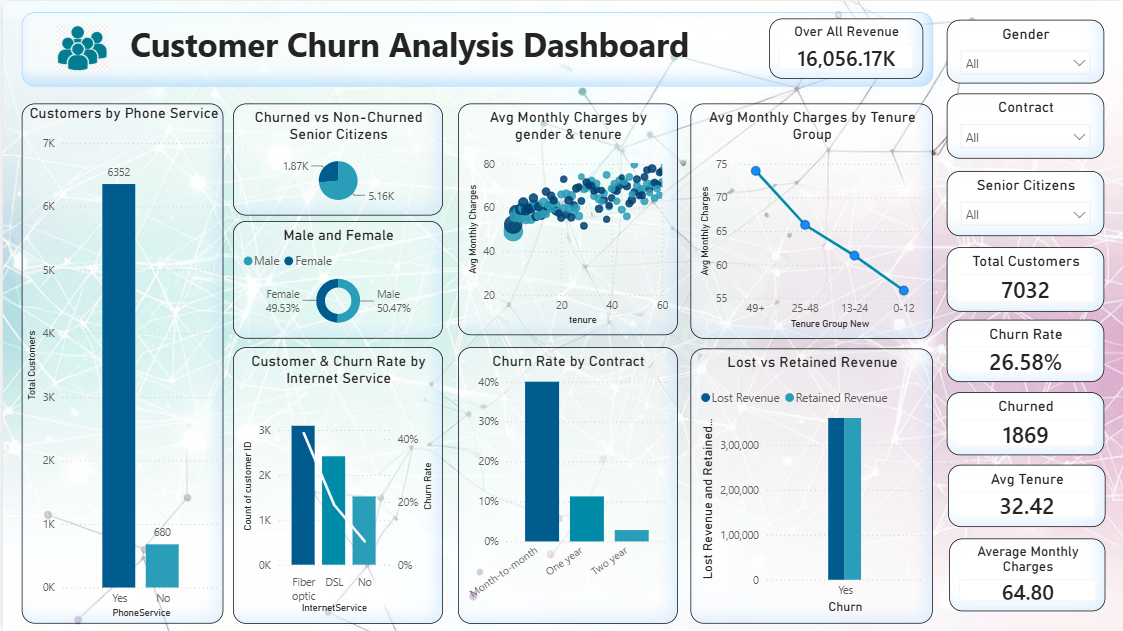

The page's visual inventory and layout, read from the dashboard file:
{"tool":"powerbi","page":{"name":"📊 Executive Dashboard","canvas":[1280,720],"ordinal":0},"visuals":[{"type":"textbox","box":[22,12.3,1041.5,85.1],"z":0},{"type":"cardVisual","title":"Total Customers","fields":{"Data":["Telco-Customer-Churn.Total Customers"]},"box":[1078.6,281.3,179.8,73.6],"z":1000},{"type":"cardVisual","title":"Churned","fields":{"Data":["Telco-Customer-Churn.Churned Customers"]},"box":[1078.6,447.3,179.8,72.4],"z":2000},{"type":"cardVisual","title":"Avg Tenure","fields":{"Data":["Telco-Customer-Churn.Avg Tenure"]},"box":[1079.9,529.7,179.8,71.2],"z":3000},{"type":"cardVisual","title":"Churn Rate","fields":{"Data":["Telco-Customer-Churn.Churn Rate"]},"box":[1078.6,363.6,179.8,71.4],"z":4000},{"type":"cardVisual","title":"Average Monthly Charges","fields":{"Data":["Telco-Customer-Churn.Avg Monthly Charges"]},"box":[1081.3,614.8,178.6,82.9],"z":5000},{"type":"slicer","title":"Senior Citizens","fields":{"Values":["Telco-Customer-Churn.SeniorCitizen"]},"box":[1078.6,194.9,179.8,74.8],"z":6000},{"type":"slicer","title":"Gender","fields":{"Values":["Telco-Customer-Churn.gender"]},"box":[1078.6,22,179.8,72.7],"z":7000},{"type":"slicer","title":"Contract","fields":{"Values":["Telco-Customer-Churn.Contract"]},"box":[1078.6,105.7,179.8,74.8],"z":8000},{"type":"donutChart","title":"Male and Female","fields":{"Category":["Telco-Customer-Churn.gender"],"Y":["CountNonNull(Telco-Customer-Churn.customer ID)"]},"box":[263.1,251.7,240,134.3],"z":9000},{"type":"pieChart","title":"Churned vs Non-Churned Senior Citizens","fields":{"Category":["Telco-Customer-Churn.Churn"],"Y":["CountNonNull(Telco-Customer-Churn.customer ID)"]},"box":[263.5,116.6,240.1,127.6],"z":10000},{"type":"scatterChart","title":"Avg Monthly Charges by gender & tenure","fields":{"Y":["Telco-Customer-Churn.Avg Monthly Charges"],"X":["Telco-Customer-Churn.tenure"],"Series":["Telco-Customer-Churn.gender"],"Size":["Telco-Customer-Churn.Total Customers"]},"box":[520.1,116.6,251.1,264.8],"z":11000},{"type":"lineChart","title":"Avg Monthly Charges by Tenure Group ","fields":{"Y":["Telco-Customer-Churn.Avg Monthly Charges"],"Category":["Telco-Customer-Churn.Tenure Group New"]},"box":[786.3,116.6,277.2,269],"z":12000},{"type":"clusteredColumnChart","title":"Lost vs Retained Revenue ","fields":{"Category":["Telco-Customer-Churn.Churn"],"Y":["Telco-Customer-Churn.Lost Revenue","Telco-Customer-Churn.Retained Revenue"]},"box":[786.3,396.6,277.2,314.2],"z":13000},{"type":"clusteredColumnChart","fields":{"Category":["Telco-Customer-Churn.Contract"],"Y":["Telco-Customer-Churn.Churn Rate"]},"box":[520.3,396,251.4,315.7],"z":14000},{"type":"clusteredColumnChart","title":"Customers by Phone Service","fields":{"Category":["Telco-Customer-Churn.PhoneService"],"Y":["Telco-Customer-Churn.Total Customers"]},"box":[22,116.6,230.5,594.2],"z":15000},{"type":"lineClusteredColumnComboChart","title":"Customer & Churn Rate by Internet Service","fields":{"Category":["Telco-Customer-Churn.InternetService"],"Y":["CountNonNull(Telco-Customer-Churn.customer ID)"],"Y2":["Telco-Customer-Churn.Churn Rate"]},"box":[263.1,396,240,315.7],"z":19000},{"type":"image","box":[43.9,26.1,93.3,56.3],"z":20000},{"type":"cardVisual","title":"Over All Revenue","fields":{"Data":["Telco-Customer-Churn.Total Revenue"]},"box":[875.5,20.6,175.6,68.6],"z":21000}]}

Visuals, with their boxes in screenshot pixels (x1, y1, x2, y2), scaled from the page's 1280x720 canvas onto the 1123x631 screenshot:
textbox: crop(19, 11, 933, 85)
"Total Customers" cardVisual: crop(946, 247, 1104, 311)
"Churned" cardVisual: crop(946, 392, 1104, 455)
"Avg Tenure" cardVisual: crop(947, 464, 1105, 527)
"Churn Rate" cardVisual: crop(946, 319, 1104, 381)
"Average Monthly Charges" cardVisual: crop(949, 539, 1105, 611)
"Senior Citizens" slicer: crop(946, 171, 1104, 236)
"Gender" slicer: crop(946, 19, 1104, 83)
"Contract" slicer: crop(946, 93, 1104, 158)
"Male and Female" donutChart: crop(231, 221, 441, 338)
"Churned vs Non-Churned Senior Citizens" pieChart: crop(231, 102, 442, 214)
"Avg Monthly Charges by gender & tenure" scatterChart: crop(456, 102, 677, 334)
"Avg Monthly Charges by Tenure Group " lineChart: crop(690, 102, 933, 338)
"Lost vs Retained Revenue " clusteredColumnChart: crop(690, 348, 933, 623)
clusteredColumnChart - Telco-Customer-Churn.Contract x Telco-Customer-Churn.Churn Rate: crop(456, 347, 677, 624)
"Customers by Phone Service" clusteredColumnChart: crop(19, 102, 222, 623)
"Customer & Churn Rate by Internet Service" lineClusteredColumnComboChart: crop(231, 347, 441, 624)
image: crop(39, 23, 120, 72)
"Over All Revenue" cardVisual: crop(768, 18, 922, 78)
